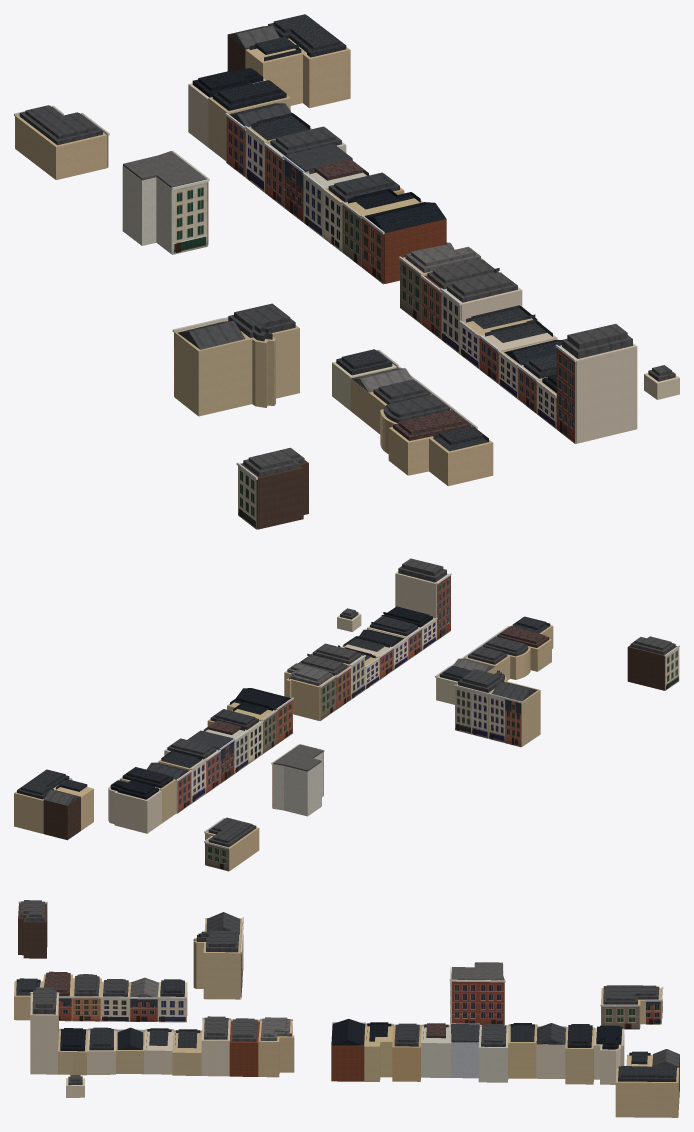
3 renders of one model, top to bottom at view 1: azimuth 30°, elevation 25°; view 2: azimuth 150°, elevation 25°; view 3: azimuth 270°, elevation 25°, orthographic. The views are drawn at different scales.
Visible parts, largest first — view 1: bldg_516849902, bldg_516856930, bldg_516856932, bldg_516856942, bldg_516869687, bldg_516856912, bldg_516849917, bldg_516856942_facade0, bldg_516856927, bldg_516849893, bldg_516849915, bldg_516849902_facade0 (+38 smaller); view 2: bldg_516856942, bldg_516850221, bldg_516856930_facade0, bldg_516856932_facade0, bldg_516849902, bldg_516856912, bldg_516849916, bldg_516849894, bldg_516849917, bldg_516856930, bldg_516849902_facade0, bldg_516869687 (+25 smaller); view 3: bldg_516849917, bldg_516856932, bldg_516856942_facade1, bldg_516849902, bldg_516849894, bldg_516849892, bldg_516850227, bldg_516849893, bldg_516856912, bldg_516850225, bldg_516849896, bldg_516850222 (+45 smaller).
Part boxes in pixels (x1,y1,x2,y2): bldg_516849902: (559, 343, 637, 443); bldg_516856930: (174, 320, 248, 416); bldg_516856932: (225, 320, 299, 407); bldg_516856942: (122, 166, 172, 254); bldg_516869687: (15, 115, 107, 179); bldg_516856912: (240, 460, 308, 529); bldg_516849917: (280, 37, 350, 107); bldg_516856942_facade0: (171, 179, 208, 254); bldg_516856927: (429, 437, 493, 486); bldg_516849893: (365, 205, 446, 283); bldg_516849915: (245, 48, 304, 105); bldg_516849902_facade0: (555, 344, 576, 443); bldg_516856942: (273, 752, 323, 816); bldg_516850221: (108, 786, 161, 833); bldg_516856930_facade0: (487, 693, 522, 747); bldg_516856932_facade0: (454, 684, 488, 738); bldg_516849902: (395, 572, 448, 618); bldg_516856912: (627, 645, 677, 690); bldg_516849916: (43, 795, 80, 840); bldg_516849894: (284, 671, 333, 720); bldg_516849917: (14, 778, 72, 833); bldg_516856930: (490, 681, 540, 746); bldg_516849902_facade0: (436, 573, 451, 640); bldg_516869687: (205, 827, 259, 870); bldg_516849917: (615, 1067, 679, 1117); bldg_516856932: (193, 935, 241, 999); bldg_516856942_facade1: (451, 979, 505, 1024); bldg_516849902: (30, 994, 58, 1074); bldg_516849894: (258, 1020, 294, 1077); bldg_516849892: (364, 1025, 393, 1081); bldg_516850227: (421, 1026, 450, 1077); bldg_516849893: (331, 1024, 365, 1081); bldg_516856912: (18, 903, 47, 958); bldg_516850225: (478, 1026, 508, 1082); bldg_516849896: (201, 1019, 230, 1076); bldg_516850222: (565, 1027, 594, 1084).
Size of the model in its own units: 103 by 18.25 by 162.
Materials: 52 (26 with a texture image).
